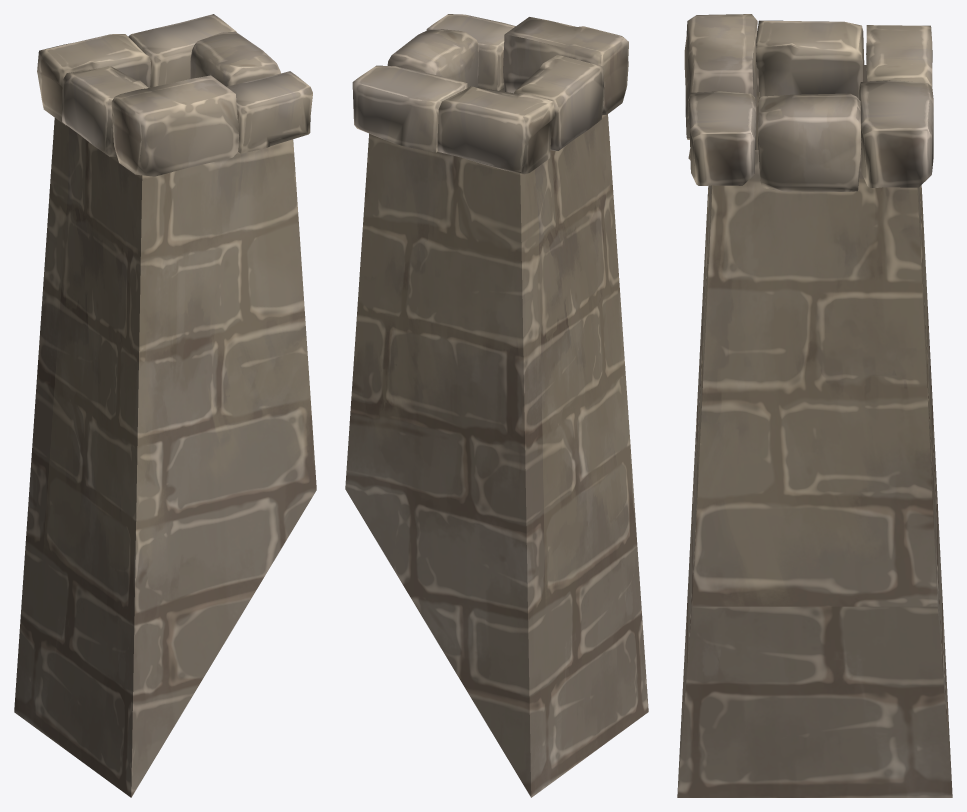
The model's file is Prop_Chimney.gltf.
3 views of the same model, side by side, from view 1: azimuth 30°, elevation 25°; view 2: azimuth 150°, elevation 25°; view 3: azimuth 270°, elevation 25° (orthographic). The views are drawn at different scales.
Visible parts, largest first — view 1: Prop_Chimney; view 2: Prop_Chimney; view 3: Prop_Chimney.
Part boxes in pixels (left/top/right/bottom): Prop_Chimney: left=14, top=14, right=316, bottom=797; Prop_Chimney: left=345, top=14, right=648, bottom=797; Prop_Chimney: left=677, top=14, right=952, bottom=797.
Bounding box in the file's own units: 0.9458 × 3.18 × 1.
2 materials, 2 textured.
